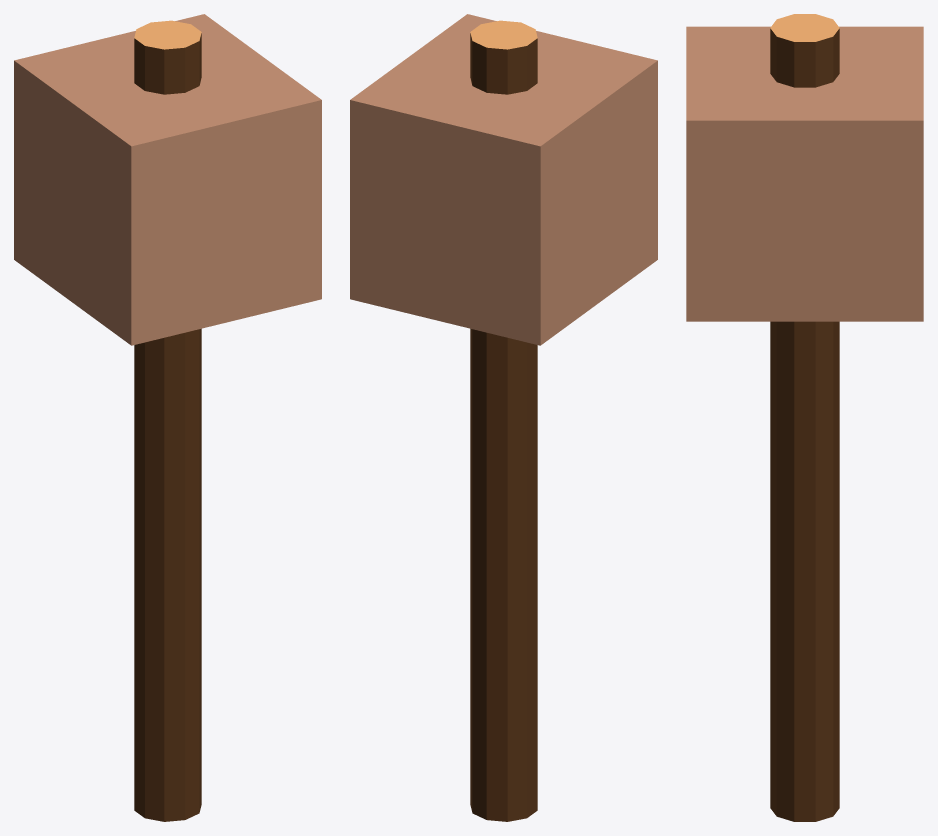
The model's file is Mallet.fbx.
3 views of the same model, side by side, from view 1: azimuth 30°, elevation 25°; view 2: azimuth 150°, elevation 25°; view 3: azimuth 270°, elevation 25° (orthographic).
Visible parts, largest first — view 1: Cube.070, Cube.069; view 2: Cube.070, Cube.069; view 3: Cube.070, Cube.069.
Part boxes in pixels (x1,y1,x2,y2): Cube.070: (14,14,321,345); Cube.069: (134,20,201,821); Cube.070: (350,14,657,345); Cube.069: (470,20,537,821); Cube.070: (686,26,923,321); Cube.069: (770,14,839,821).
Size of the model in its own units: 200 by 775 by 214.
